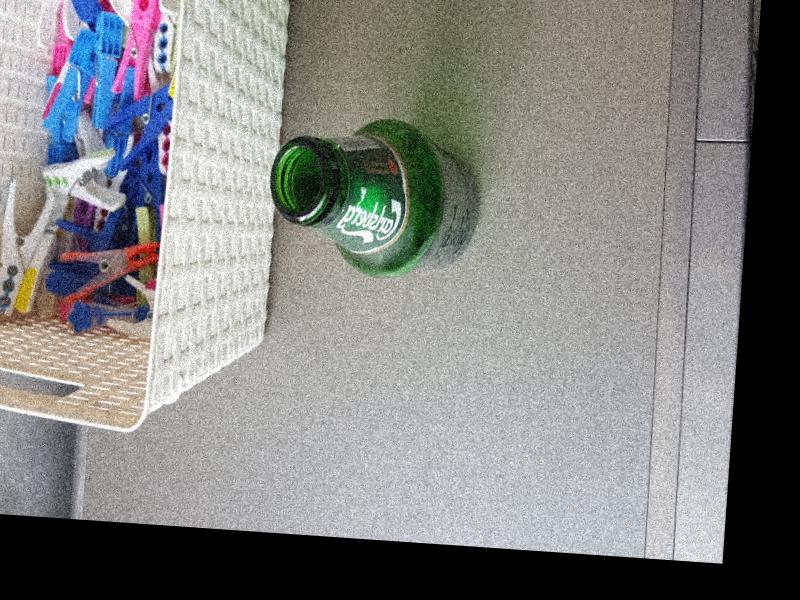Beer: (265, 112, 486, 286)
